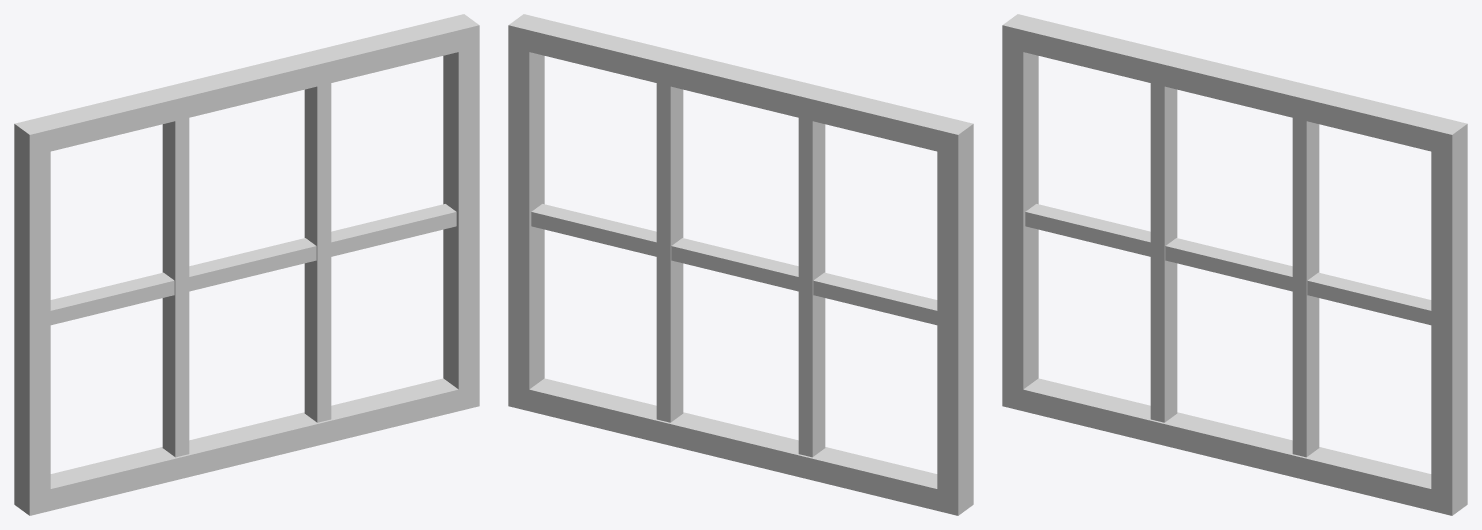
Rendered from Window3_03_2.fbx.
3 renders of one model, left to right at view 1: azimuth 30°, elevation 25°; view 2: azimuth 150°, elevation 25°; view 3: azimuth 330°, elevation 25°, orthographic.
Parts seen in each view (by area): view 1: Window3_03_2; view 2: Window3_03_2; view 3: Window3_03_2.
Boxes of the visible parts, x1=… form: Window3_03_2: x1=14, y1=14, x2=479, y2=515; Window3_03_2: x1=508, y1=14, x2=973, y2=515; Window3_03_2: x1=1002, y1=14, x2=1467, y2=515.
Size of the model in its own units: 97.48 by 78.91 by 5.76.
